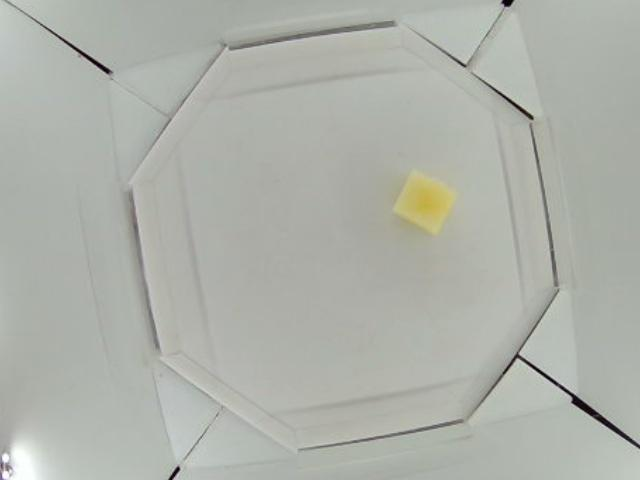Potato: (394, 172, 457, 237)
